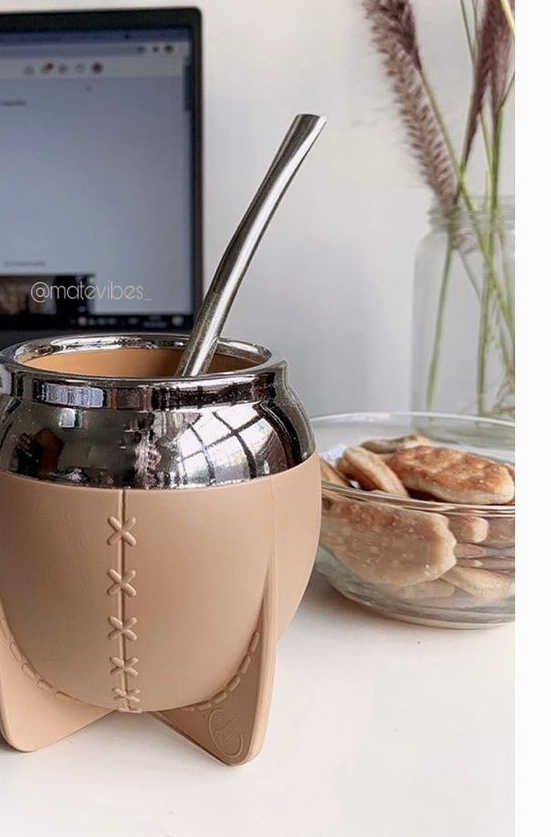calabaza: (2, 94, 320, 779)
mate: (1, 91, 330, 822)
